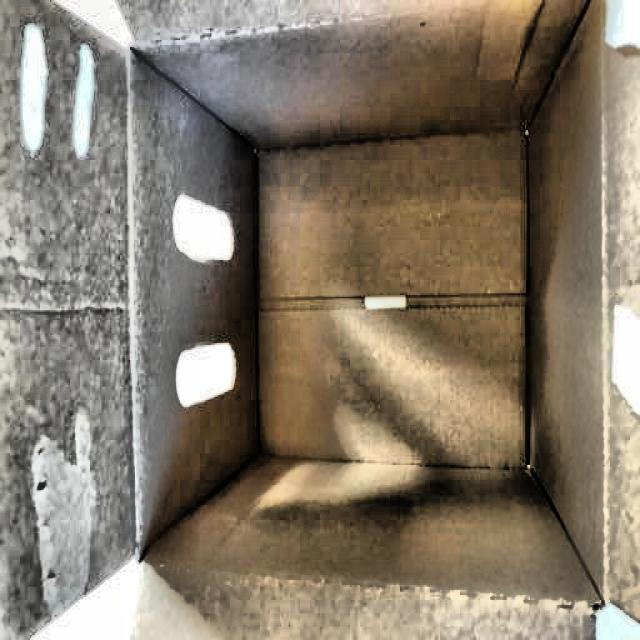cardboard: (36, 34, 624, 581)
